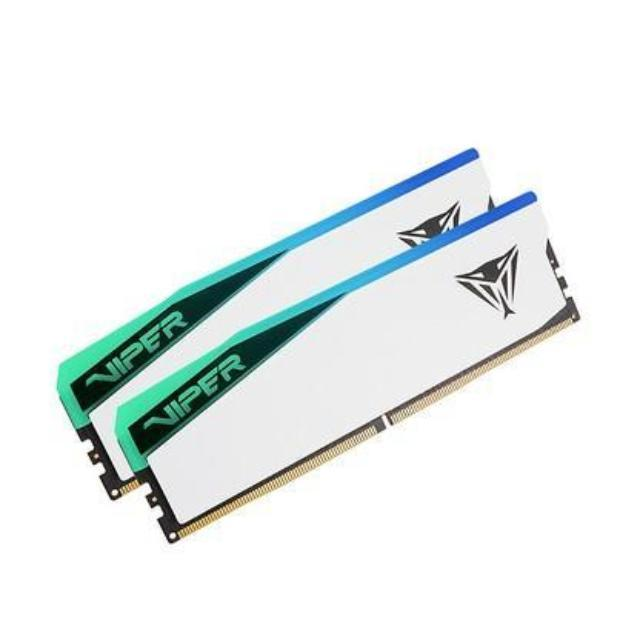RAM: (60, 134, 588, 548)
